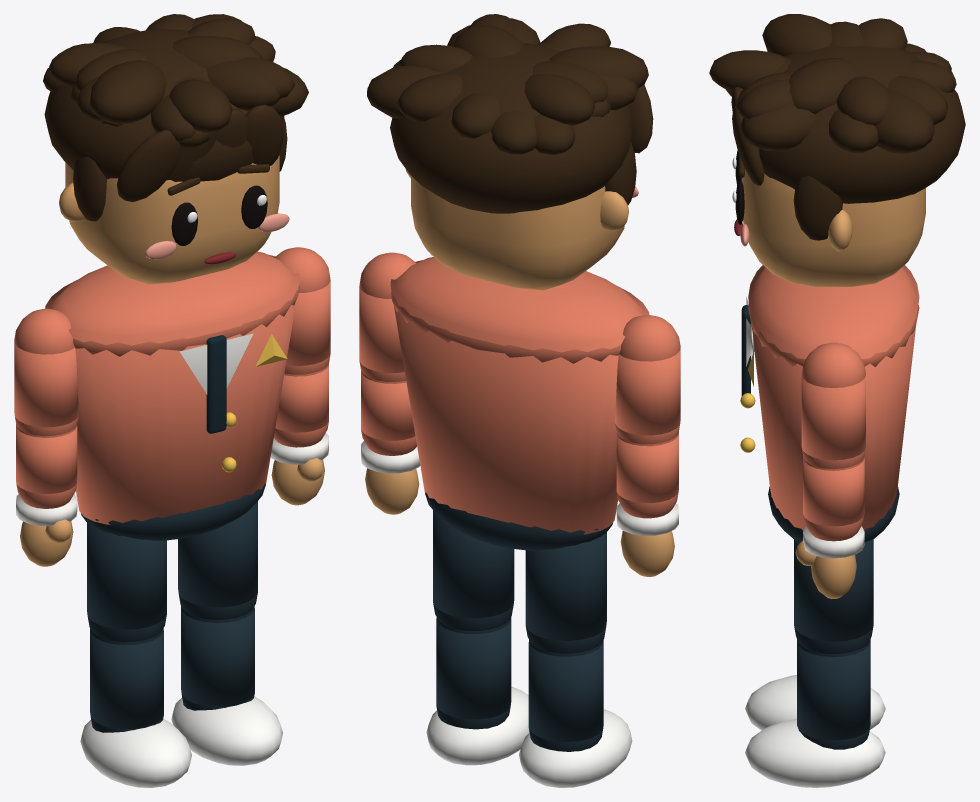
File: warga.glb
3 views of the same model, side by side, from view 1: azimuth 30°, elevation 25°; view 2: azimuth 150°, elevation 25°; view 3: azimuth 270°, elevation 25° (orthographic). The views are drawn at different scales.
Parts seen in each view (by area): view 1: Cone, Sphere.010, Cube.001, Sphere.028, Cylinder, Cylinder.002, Cylinder.001, Cylinder.003, Sphere.004, Sphere.009, Cylinder.004, Sphere.041 (+35 smaller); view 2: Cone, Sphere.028, Sphere.010, Cube.001, Cylinder, Cylinder.003, Cylinder.001, Cylinder.002, Cylinder.004, Sphere.004, Sphere.009, Cylinder.005 (+32 smaller); view 3: Cone, Sphere.028, Cube.001, Sphere.010, Cylinder.003, Sphere.009, Cylinder.002, Cylinder.007, Cylinder.008, Sphere.039, Sphere.047, Sphere.004 (+22 smaller).
Boxes of the visible parts, box(x1,y1,x2,y2) form: Cone: box(45, 254, 299, 524); Sphere.010: box(51, 251, 299, 356); Cube.001: box(65, 155, 279, 284); Sphere.028: box(44, 29, 284, 181); Cylinder: box(87, 523, 166, 629); Cylinder.002: box(178, 501, 257, 607); Cylinder.001: box(90, 629, 163, 729); Cylinder.003: box(181, 606, 254, 706); Sphere.004: box(80, 719, 191, 787); Sphere.009: box(171, 696, 282, 765); Cylinder.004: box(14, 341, 78, 427); Sphere.041: box(89, 60, 166, 124); Cone: box(390, 260, 649, 534); Sphere.028: box(390, 43, 634, 213); Sphere.010: box(391, 257, 643, 363); Cube.001: box(411, 176, 624, 290); Cylinder: box(525, 532, 606, 640); Cylinder.003: box(436, 617, 511, 719); Cylinder.001: box(528, 641, 603, 741); Cylinder.002: box(433, 510, 514, 618); Cylinder.004: box(615, 347, 680, 435); Sphere.004: box(519, 709, 632, 787); Sphere.009: box(426, 686, 529, 765); Cylinder.005: box(616, 434, 678, 503); Cone: box(748, 265, 919, 530); Sphere.028: box(759, 45, 965, 203); Cube.001: box(741, 169, 925, 286); Sphere.010: box(748, 267, 919, 366); Cylinder.003: box(797, 642, 870, 740); Sphere.009: box(745, 719, 885, 787); Cylinder.002: box(794, 539, 873, 641); Cylinder.007: box(801, 375, 865, 460); Cylinder.008: box(803, 458, 864, 526); Sphere.039: box(875, 89, 934, 153); Sphere.047: box(789, 58, 855, 113); Sphere.004: box(745, 675, 885, 730).
Size of the model in its own units: 1.15 by 2.55 by 0.8361.
